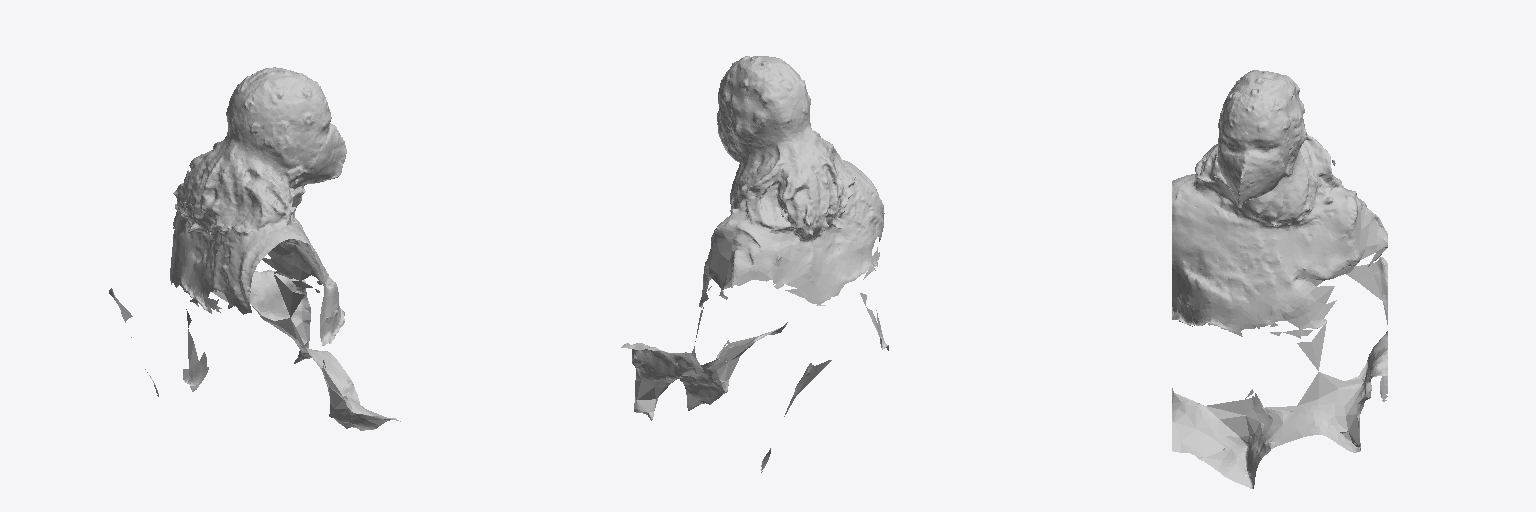
Rendered from Testmessung_7.obj.
3 renders of one model, left to right at view 1: azimuth 30°, elevation 25°; view 2: azimuth 150°, elevation 25°; view 3: azimuth 270°, elevation 25°, orthographic.
Visible parts, largest first — view 1: mesh; view 2: mesh; view 3: mesh.
Boxes of the visible parts, x1,y1,x2,y2 form: mesh: [109, 67, 400, 430]; mesh: [621, 56, 888, 472]; mesh: [1172, 70, 1387, 488].
Bounding box in the file's own units: 0.4363 × 0.8393 × 0.438.